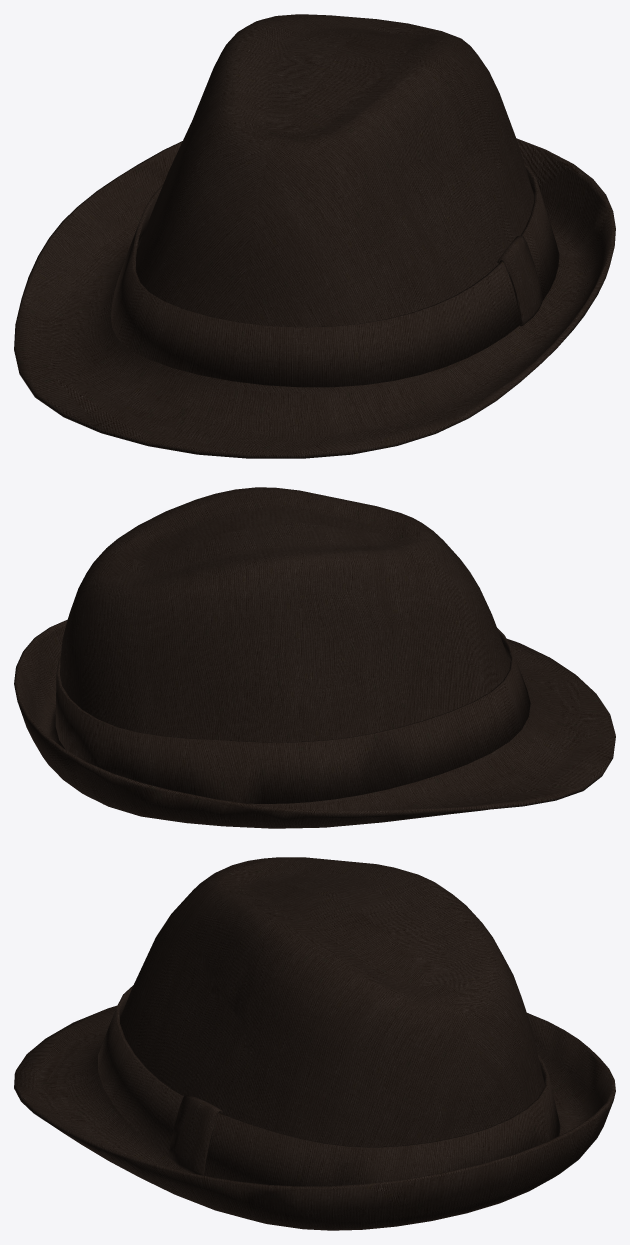
File: shelf-hat_classic.glb
The picture shows the model from 3 angles, top to bottom: view 1: azimuth 30°, elevation 25°; view 2: azimuth 150°, elevation 25°; view 3: azimuth 270°, elevation 25°; orthographic projection. The views are drawn at different scales.
Visible parts, largest first — view 1: hat_classic.001; view 2: hat_classic.001; view 3: hat_classic.001.
Boxes of the visible parts, <box> form: hat_classic.001: <box>14,14,615,458</box>; hat_classic.001: <box>14,487,615,828</box>; hat_classic.001: <box>14,857,615,1230</box>.
Size of the model in its own units: 0.2951 by 0.1203 by 0.2811.
Materials: 2 (2 with a texture image).
